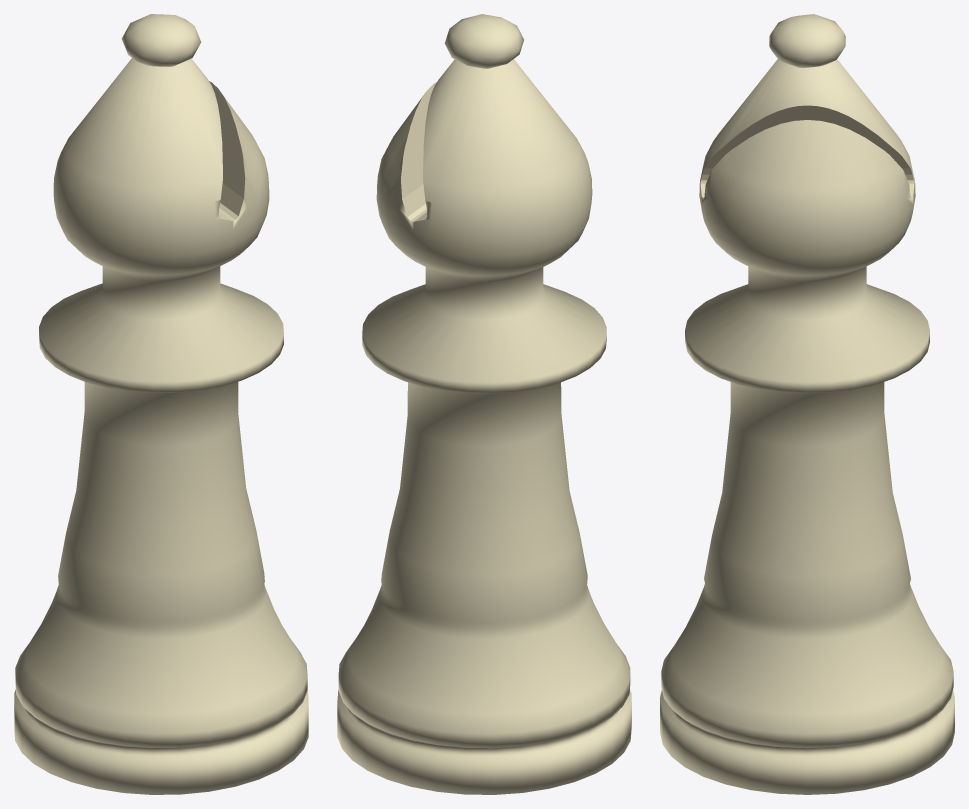
File: bishop_white.gltf
3 views of the same model, side by side, from view 1: azimuth 30°, elevation 25°; view 2: azimuth 150°, elevation 25°; view 3: azimuth 270°, elevation 25° (orthographic).
Visible parts, largest first — view 1: bishop_white; view 2: bishop_white; view 3: bishop_white.
Boxes of the visible parts, x1,y1,x2,y2 form: bishop_white: [14, 14, 308, 794]; bishop_white: [337, 14, 631, 794]; bishop_white: [660, 14, 954, 794].
Size of the model in its own units: 1 by 2.67 by 1.
